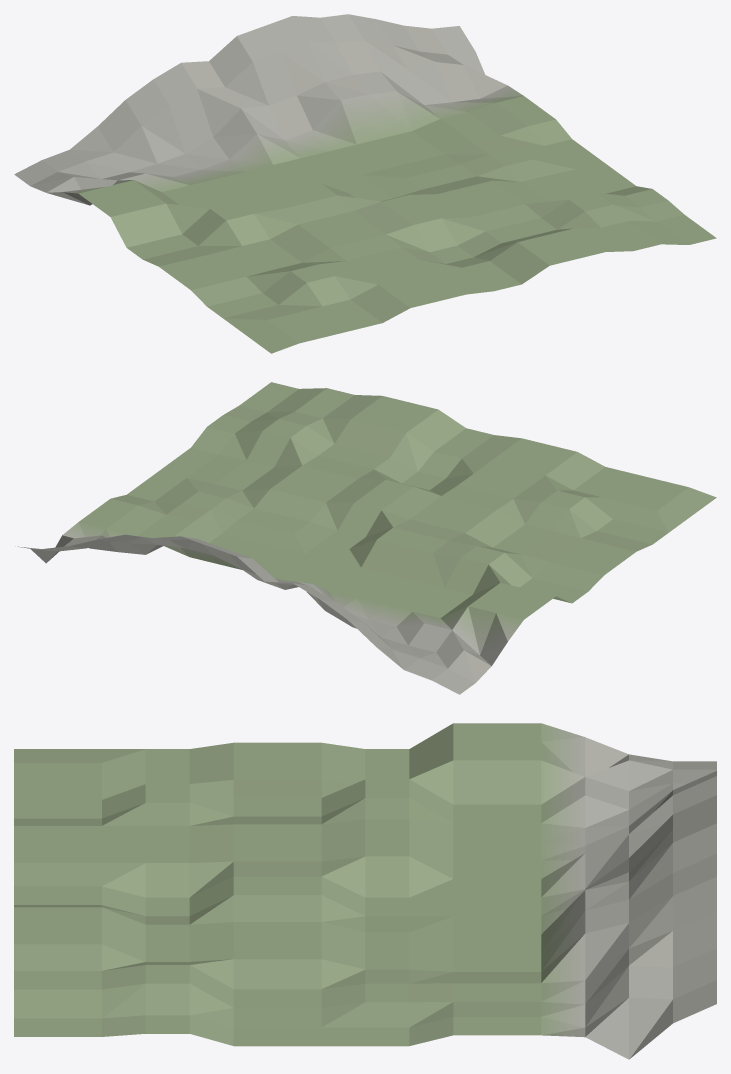
3 renders of one model, top to bottom at view 1: azimuth 30°, elevation 25°; view 2: azimuth 150°, elevation 25°; view 3: azimuth 270°, elevation 25°, orthographic. The views are drawn at different scales.
Size of the model in its own units: 32 by 6.4 by 32.
